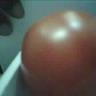tomato: (21, 22, 96, 96)
